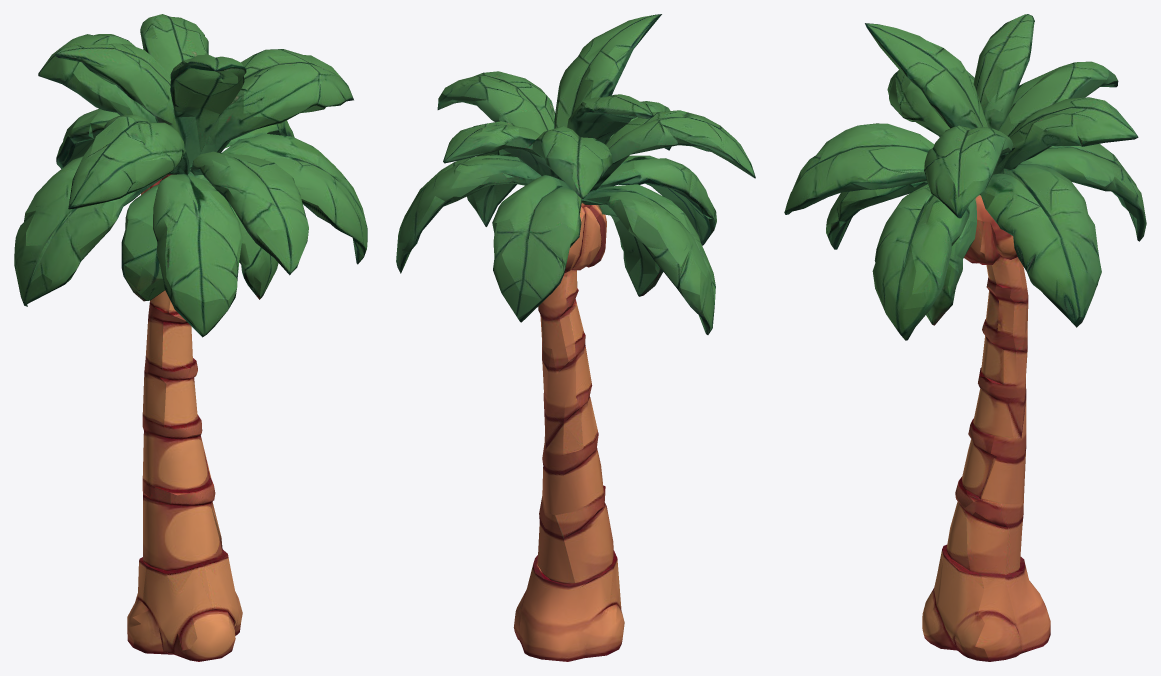
Rendered from palm-jungle.glb.
3 views of the same model, side by side, from view 1: azimuth 30°, elevation 25°; view 2: azimuth 150°, elevation 25°; view 3: azimuth 270°, elevation 25° (orthographic). The views are drawn at different scales.
Visible parts, largest first — view 1: mesh_node; view 2: mesh_node; view 3: mesh_node.
Part boxes in pixels (x1=…): mesh_node: x1=14, y1=14, x2=367, y2=661; mesh_node: x1=396, y1=14, x2=755, y2=661; mesh_node: x1=784, y1=14, x2=1146, y2=661.
Bounding box in the file's own units: 0.9938 × 1.9 × 1.04.
1 material, 1 textured.
